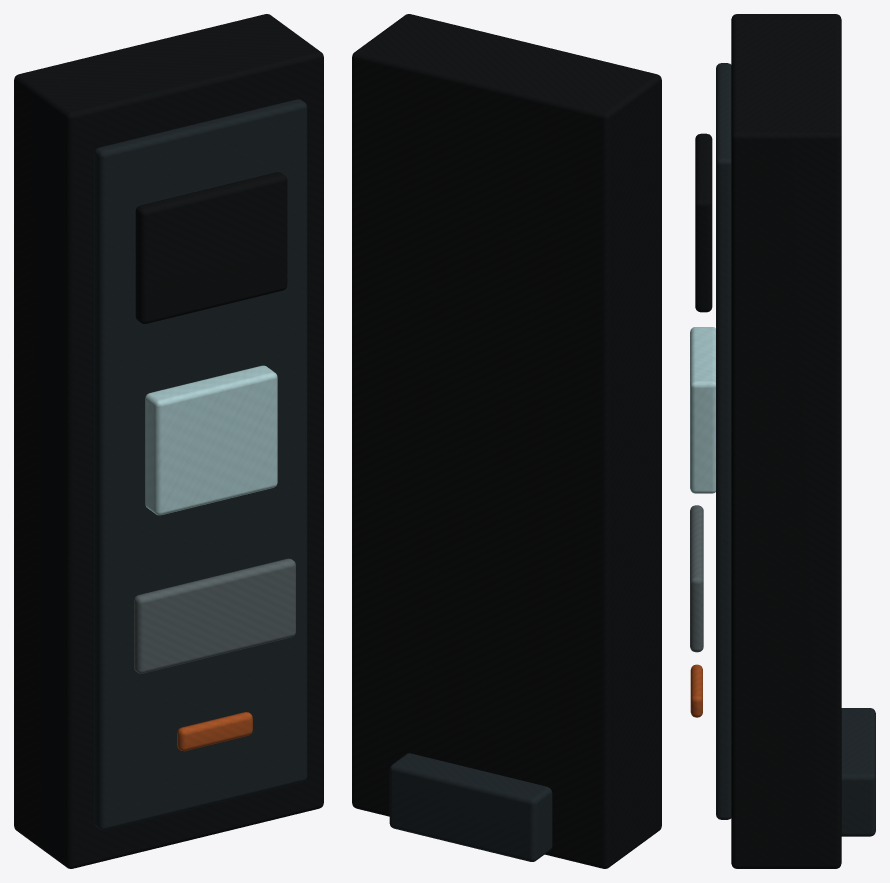
File: BiometricKeypad.fbx
3 renders of one model, left to right at view 1: azimuth 30°, elevation 25°; view 2: azimuth 150°, elevation 25°; view 3: azimuth 270°, elevation 25°, orthographic. The views are drawn at different scales.
Visible parts, largest first — view 1: BiometricKeypad_Mesh; view 2: BiometricKeypad_Mesh; view 3: BiometricKeypad_Mesh.
Part boxes in pixels (<box>): BiometricKeypad_Mesh: <box>14,14,323,868</box>; BiometricKeypad_Mesh: <box>352,14,661,868</box>; BiometricKeypad_Mesh: <box>690,14,875,868</box>.
Size of the model in its own units: 42 by 118 by 27.
